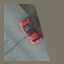car: (20, 19, 39, 45)
